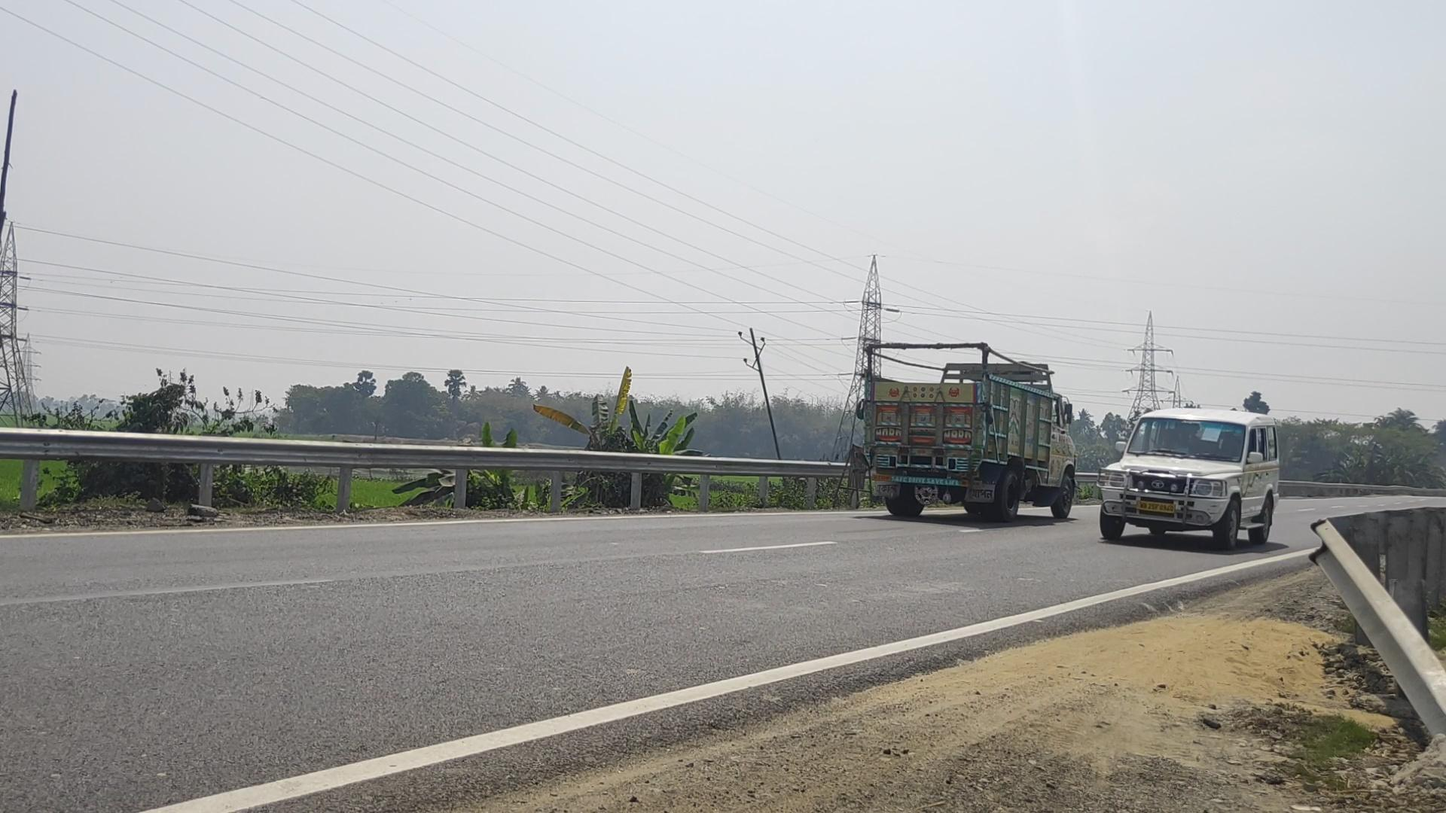car: (1096, 408, 1280, 550)
truck: (862, 343, 1078, 522)
